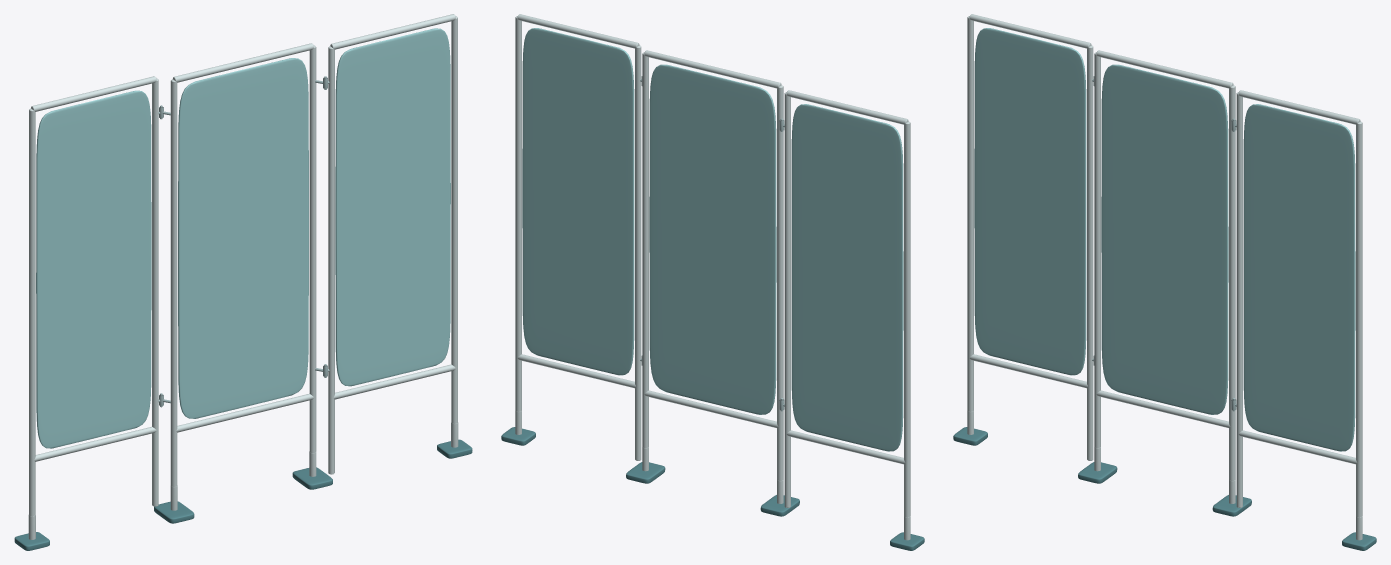
The model's file is privacy_screen.glb.
3 renders of one model, left to right at view 1: azimuth 30°, elevation 25°; view 2: azimuth 150°, elevation 25°; view 3: azimuth 330°, elevation 25°, orthographic. The views are drawn at different scales.
Parts seen in each view (by area): view 1: Central_Fabric, Right_Fabric, Left_Fabric, Central_Post_Inner, Central_Post_Outer, Right_Post_Inner, Left_Post_Inner, Left_Post_Outer, Right_Post_Outer, Central_Rail_Top, Central_Rail_Bottom, Right_Rail_Top (+5 smaller); view 2: Central_Fabric, Right_Fabric, Left_Fabric, Right_Post_Inner, Left_Post_Inner, Left_Post_Outer, Right_Post_Outer, Central_Post_Outer, Central_Post_Inner, Central_Rail_Top, Central_Rail_Bottom, Left_Rail_Top (+4 smaller); view 3: Central_Fabric, Left_Fabric, Right_Fabric, Left_Post_Inner, Right_Post_Inner, Right_Post_Outer, Left_Post_Outer, Central_Post_Inner, Central_Post_Outer, Central_Rail_Top, Central_Rail_Bottom, Right_Rail_Top (+4 smaller).
Part boxes in pixels (x1,y1,x2,y2): Central_Fabric: (178,58,308,418); Right_Fabric: (335,28,450,386); Left_Fabric: (36,90,151,448); Central_Post_Inner: (170,79,177,486); Central_Post_Outer: (309,45,316,452); Right_Post_Inner: (328,46,334,474); Left_Post_Inner: (152,78,158,506); Left_Post_Outer: (29,108,35,516); Right_Post_Outer: (451,16,457,423); Central_Rail_Top: (173,43,313,82); Central_Rail_Bottom: (176,393,313,432); Right_Rail_Top: (330,14,455,49); Central_Fabric: (649,64,776,414); Right_Fabric: (522,28,634,375); Left_Fabric: (791,104,903,451); Right_Post_Inner: (635,45,641,460); Left_Post_Inner: (784,92,790,507); Left_Post_Outer: (904,121,910,517); Right_Post_Outer: (515,16,521,411); Central_Post_Outer: (642,52,648,447); Central_Post_Inner: (777,85,783,480); Central_Rail_Top: (644,50,781,88); Central_Rail_Bottom: (644,390,778,427); Left_Rail_Top: (786,90,908,124); Central_Fabric: (1101,64,1228,414); Left_Fabric: (974,28,1086,375); Right_Fabric: (1243,104,1355,451); Left_Post_Inner: (1087,45,1093,460); Right_Post_Inner: (1236,92,1242,507); Right_Post_Outer: (1356,121,1362,517); Left_Post_Outer: (967,16,973,411); Central_Post_Inner: (1094,52,1100,447); Central_Post_Outer: (1229,85,1235,480); Central_Rail_Top: (1096,50,1233,88); Central_Rail_Bottom: (1096,390,1230,427); Right_Rail_Top: (1238,90,1360,124).
Bounding box in the file's own units: 1.82 × 1.75 × 0.18.
